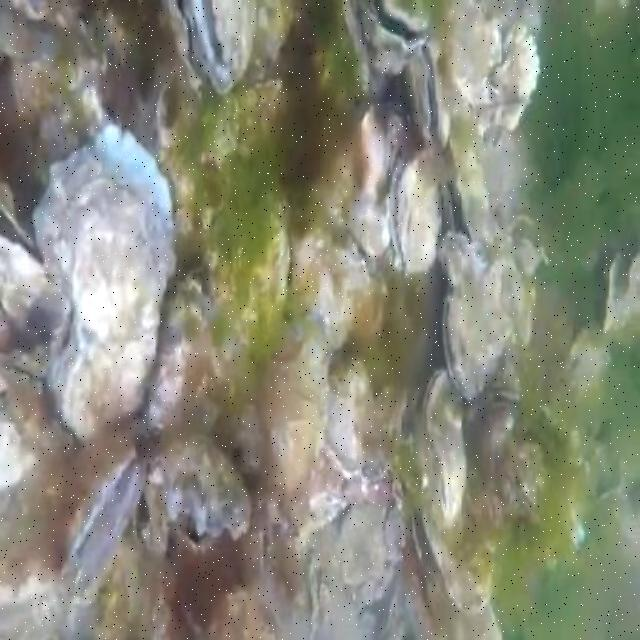Oyster-Closed: (34, 125, 178, 441), (448, 19, 538, 127), (421, 364, 474, 528)
Oyster-Open: (59, 445, 151, 603), (402, 482, 503, 612), (434, 231, 508, 401), (147, 433, 255, 543), (0, 1, 106, 89), (0, 353, 80, 460), (170, 0, 254, 100), (0, 197, 62, 329), (383, 146, 443, 278), (440, 146, 496, 252), (408, 44, 458, 148), (358, 1, 427, 72), (602, 240, 640, 332)
